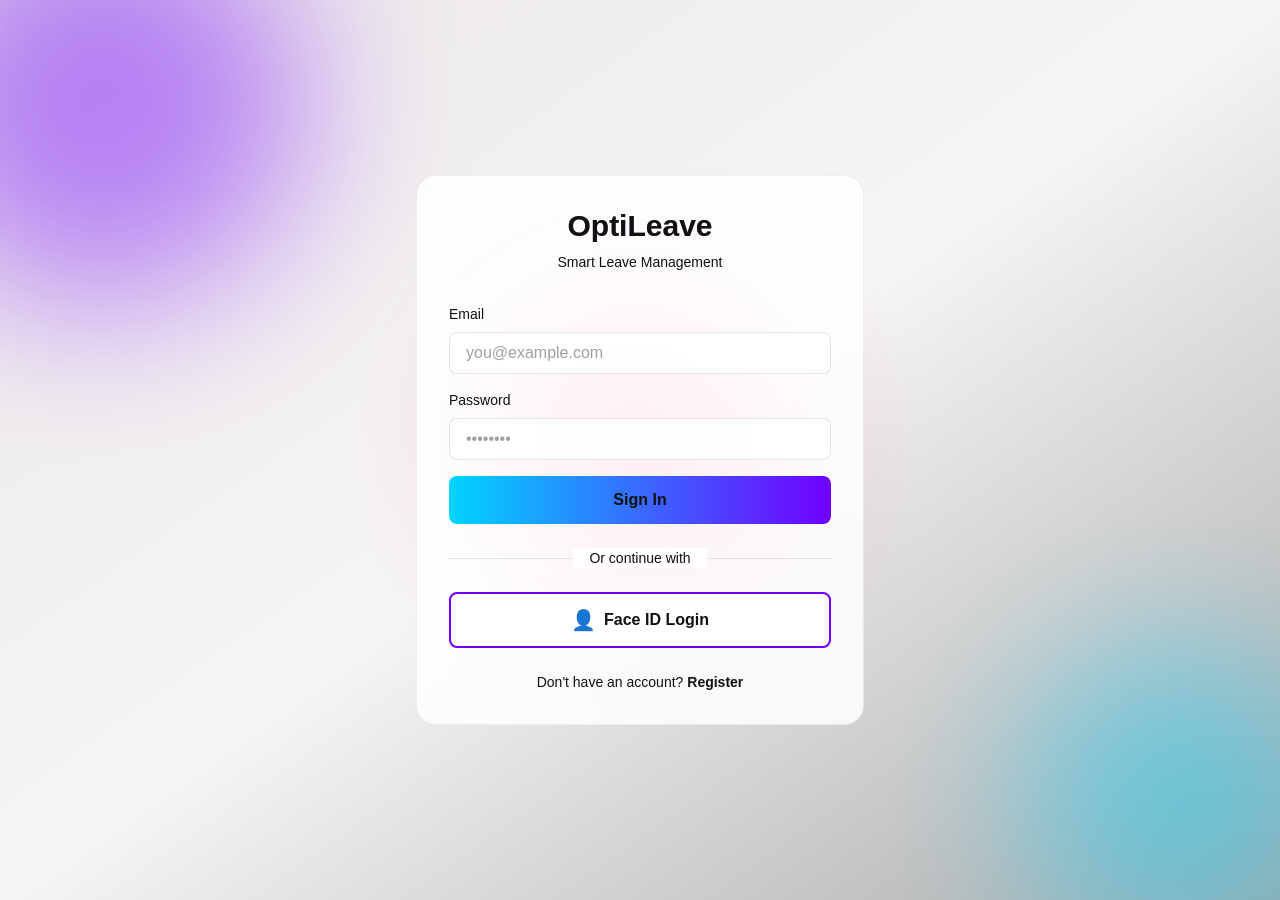
Scenario: LoginPage › Error Handling › should display error message on login failure
Type "wrong@example.com" into the field labelled "Email".
click(640, 353); type("wrong@example.com")  # box [449,332,831,374]
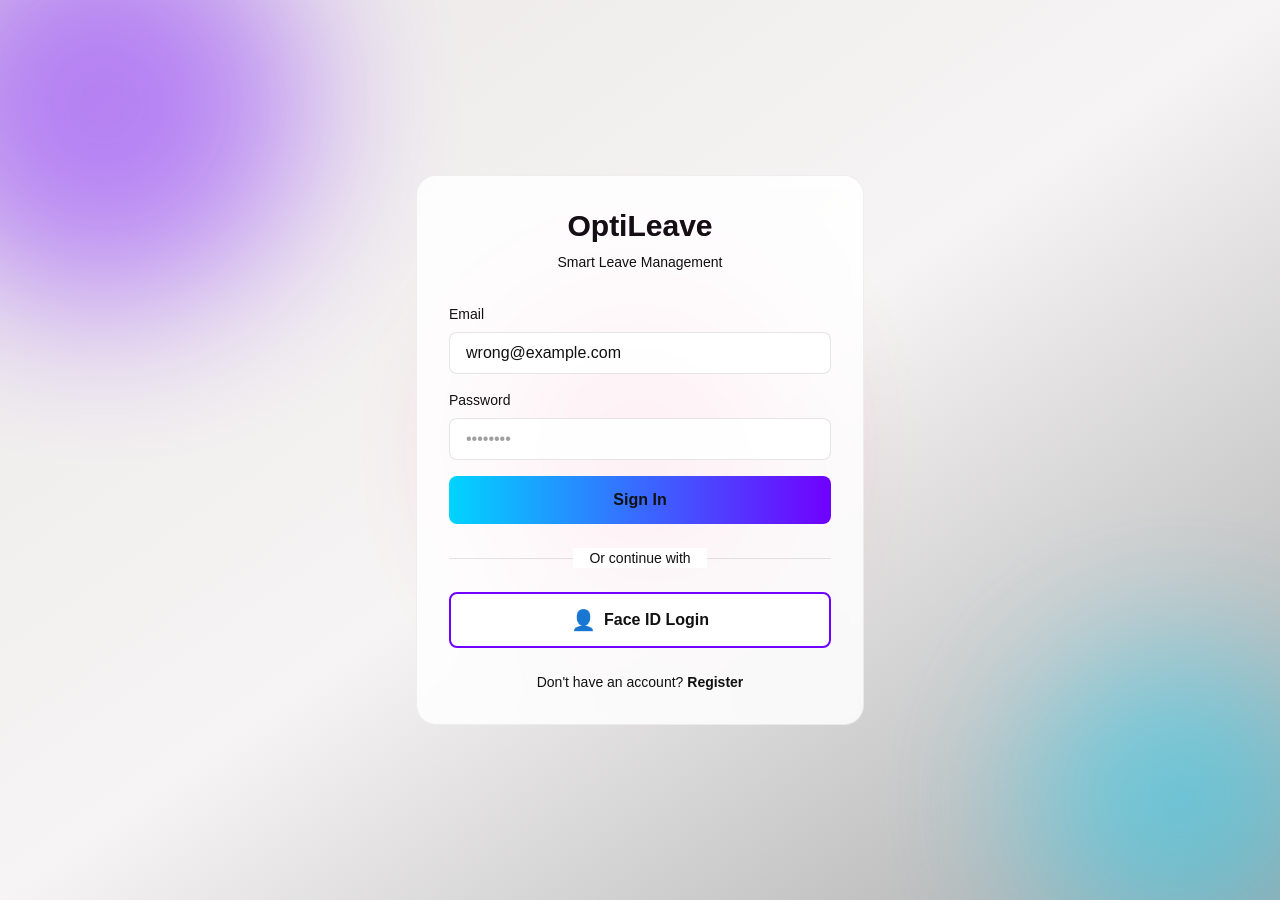
Type "wrongpassword" into the password field labelled "Password".
click(640, 439); type("wrongpassword")  # box [449,418,831,460]
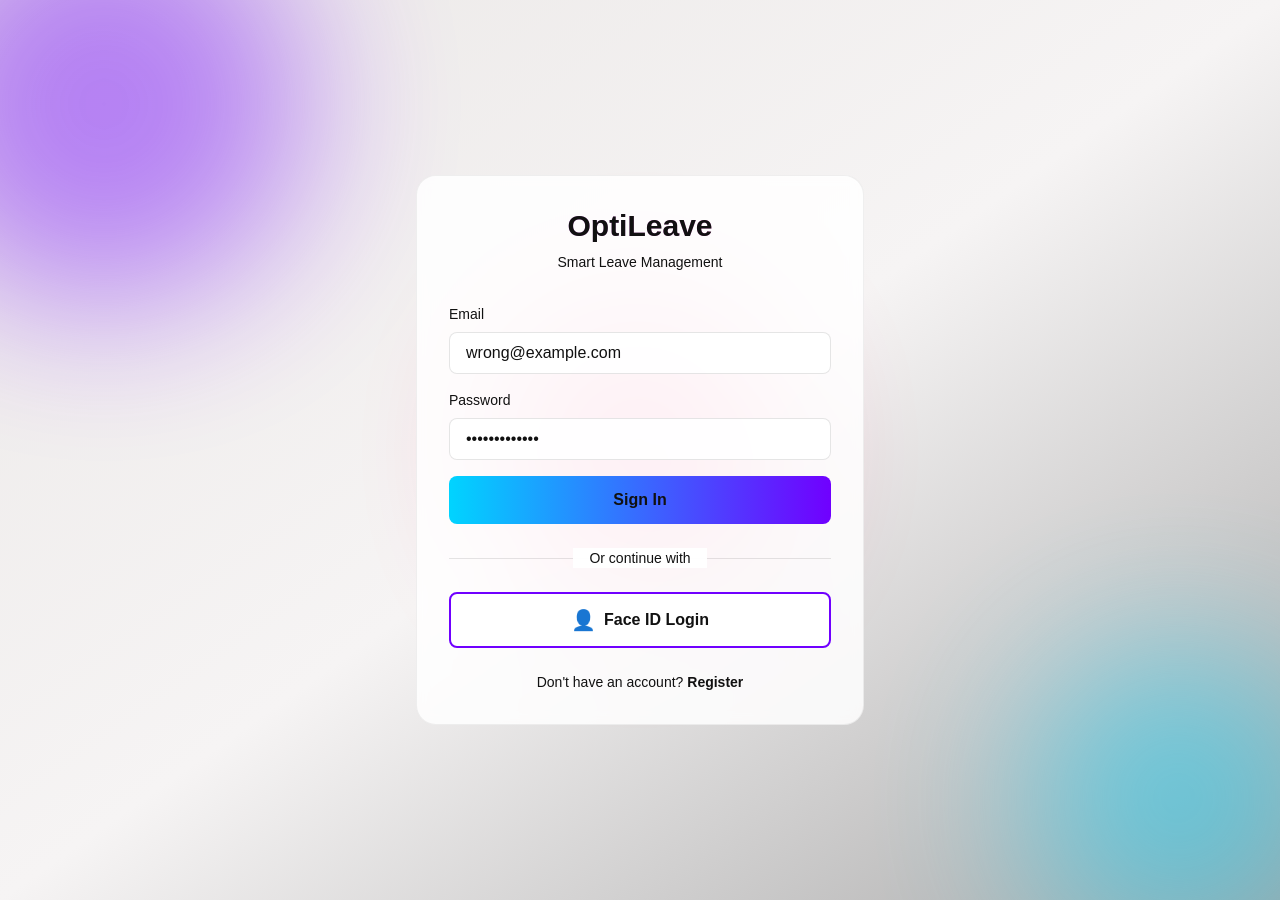
Click the button "Sign In".
click(640, 500)  # box [449,476,831,524]
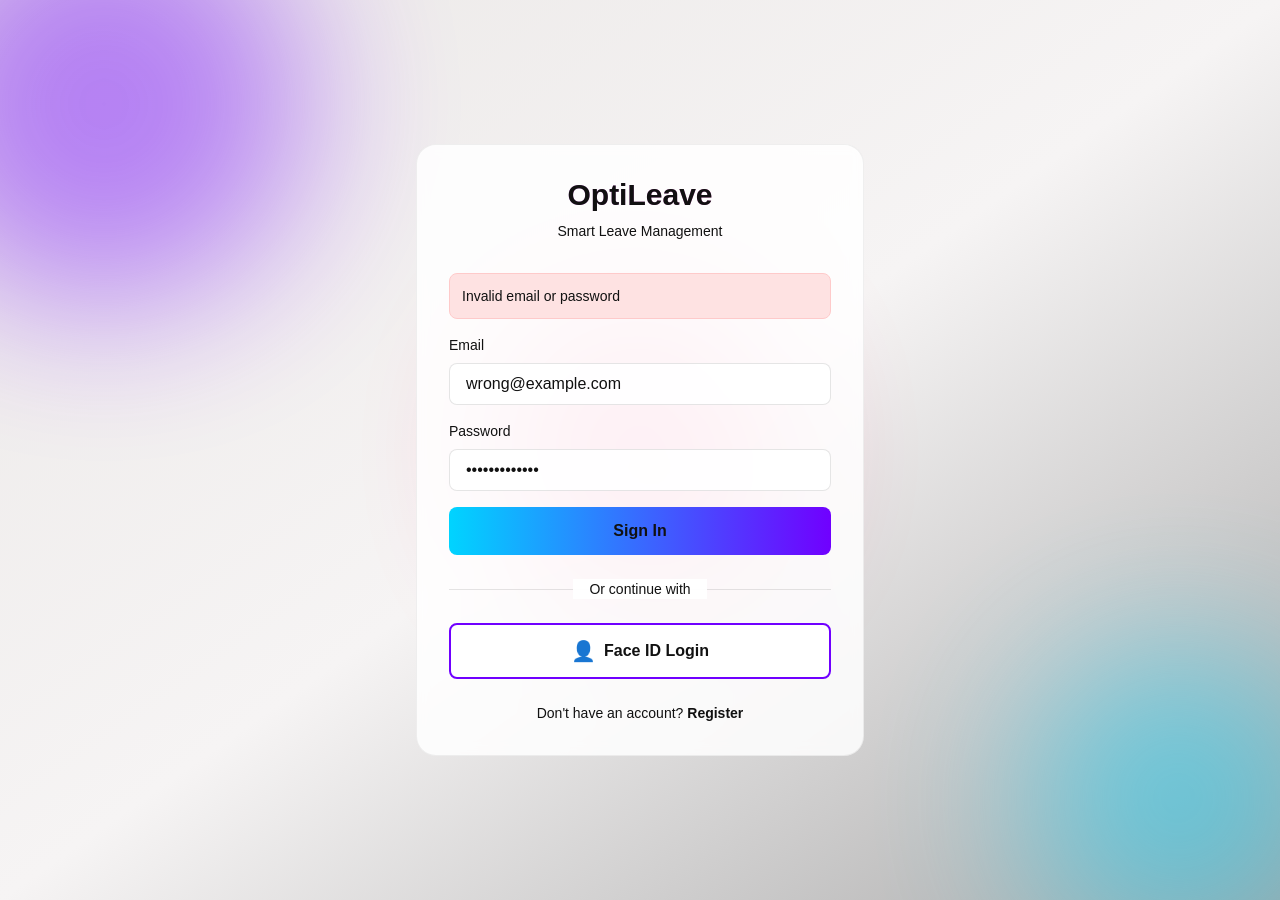
Expected: the text "Invalid email or password" is shown, [449,273,831,319]
